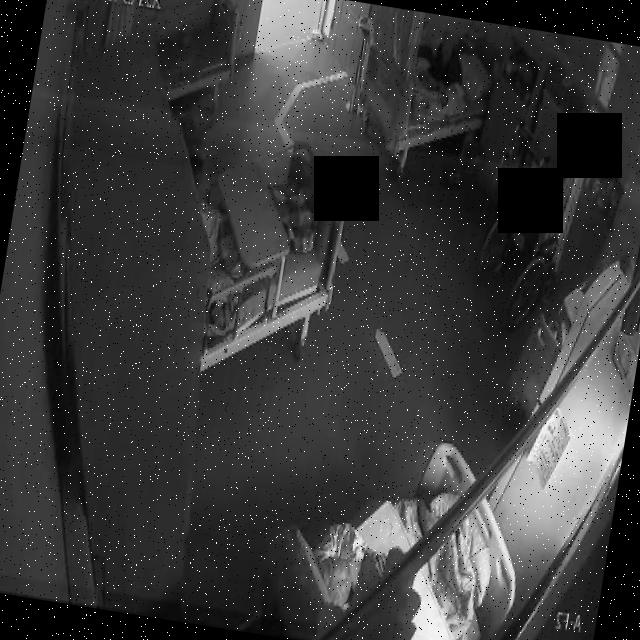bed: (272, 421, 535, 640), (187, 128, 356, 388), (354, 23, 498, 167), (150, 0, 255, 101)
